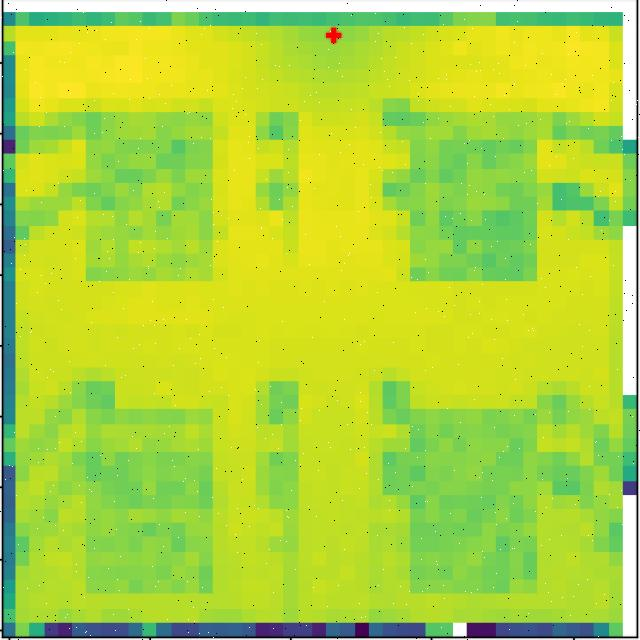Concrete: (409, 408, 539, 594)
Glass: (409, 116, 537, 282)
Metal: (86, 407, 212, 591)
Wood: (83, 112, 212, 282)
